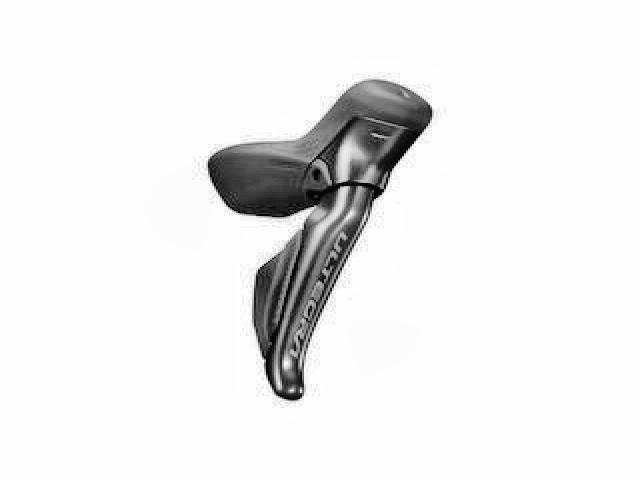sti_shifter: (205, 79, 438, 398)
